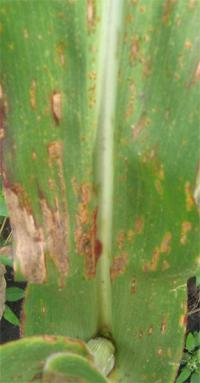Corn leaf blight: (5, 1, 188, 345)
